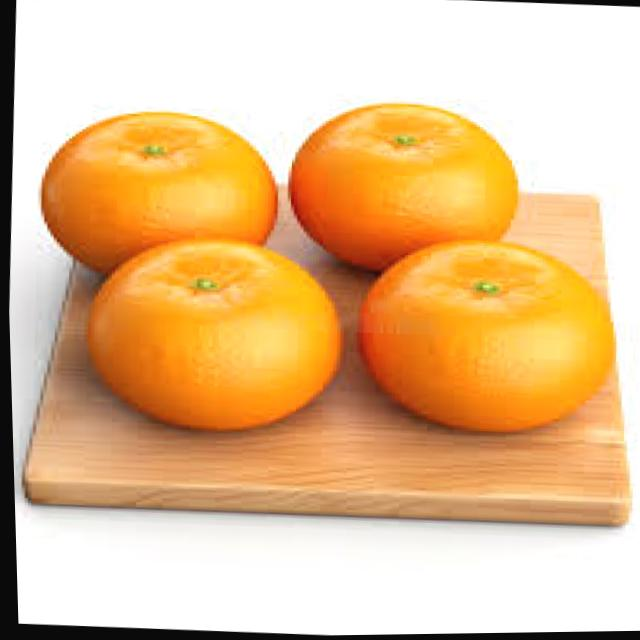orange: (76, 236, 345, 442), (347, 233, 611, 439), (33, 105, 281, 284), (280, 98, 520, 280)
